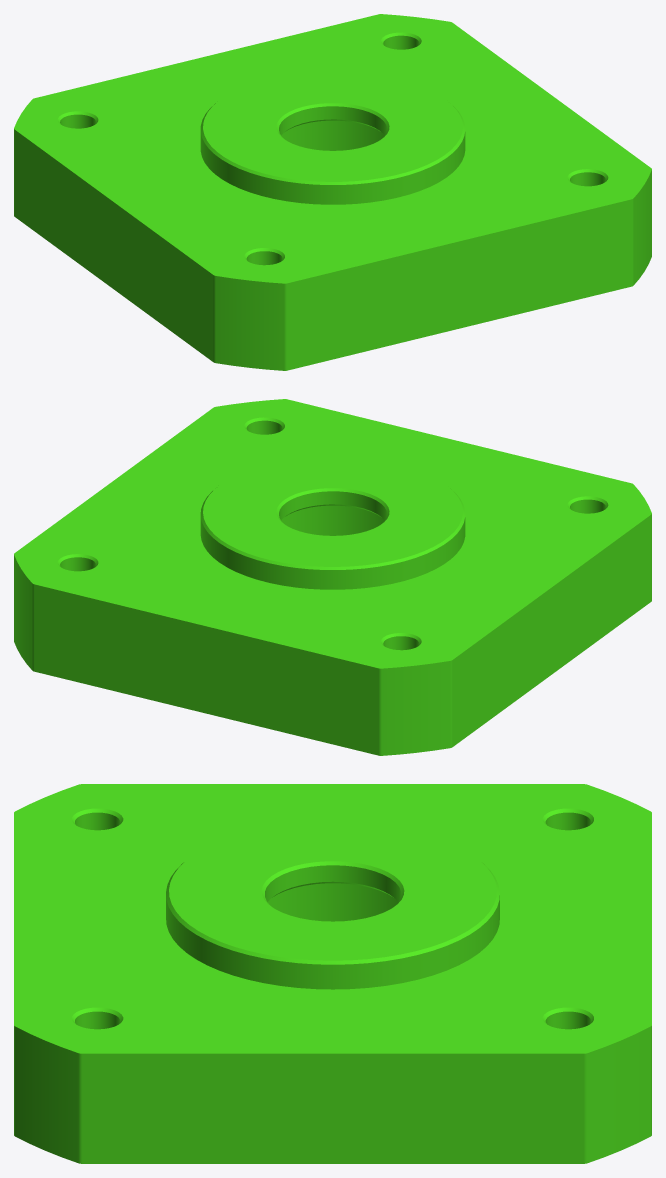
The picture shows the model from 3 angles, top to bottom: view 1: azimuth 30°, elevation 25°; view 2: azimuth 150°, elevation 25°; view 3: azimuth 270°, elevation 25°; orthographic projection. The views are drawn at different scales.
Parts seen in each view (by area): view 1: front end cap; view 2: front end cap; view 3: front end cap.
Part boxes in pixels (x1=…): front end cap: x1=14, y1=14, x2=651, y2=370; front end cap: x1=14, y1=399, x2=651, y2=755; front end cap: x1=14, y1=784, x2=651, y2=1163.
Size of the model in its own units: 0.042 by 0.01 by 0.042.
